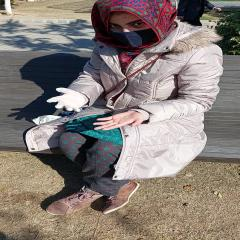gloved: (47, 88, 88, 112)
not-gloved: (92, 110, 140, 130)
